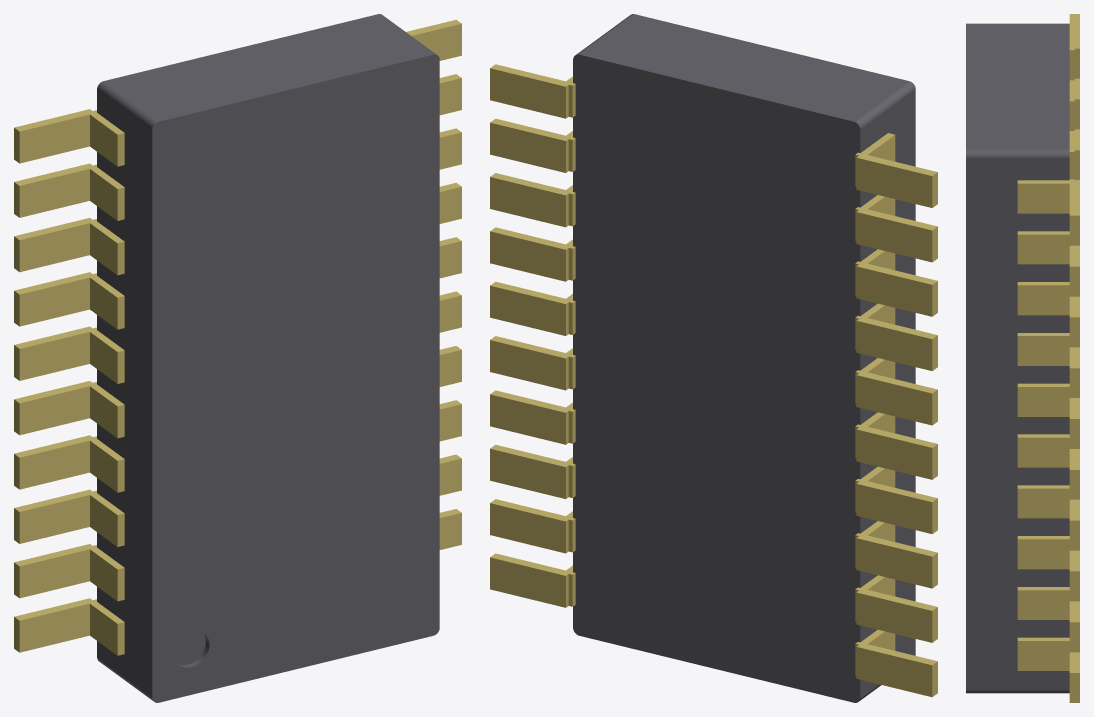
Rendered from cern_sn74lv244apw.glb.
3 renders of one model, left to right at view 1: azimuth 30°, elevation 25°; view 2: azimuth 150°, elevation 25°; view 3: azimuth 270°, elevation 25°, orthographic. The views are drawn at different scales.
Parts seen in each view (by area): view 1: extra, pins; view 2: extra, pins; view 3: extra, pins.
Boxes of the visible parts, x1,y1,x2,y2 form: extra: (97, 14, 439, 702); pins: (14, 19, 461, 655); extra: (573, 14, 915, 702); pins: (490, 64, 937, 697); extra: (966, 23, 1069, 693); pins: (1017, 14, 1079, 702).
Bounding box in the file's own units: 5.54 × 6.95 × 1.32.
